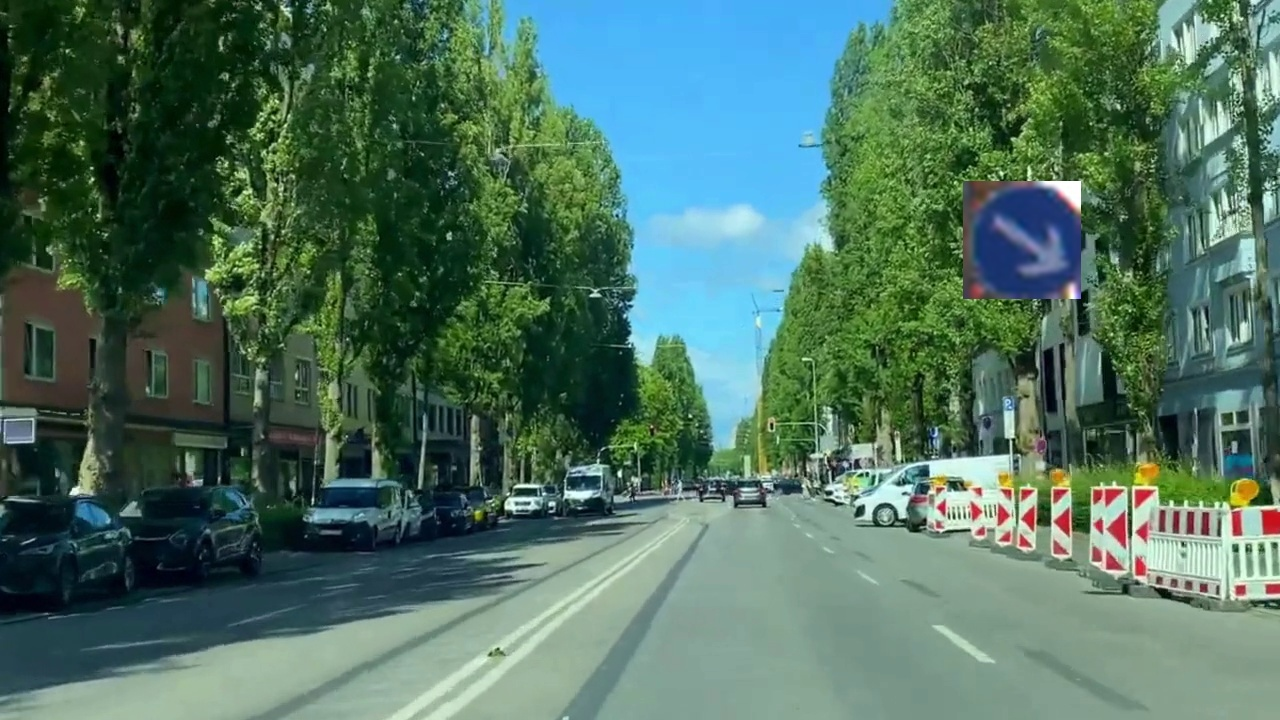Keep right: (963, 181, 1081, 299)
